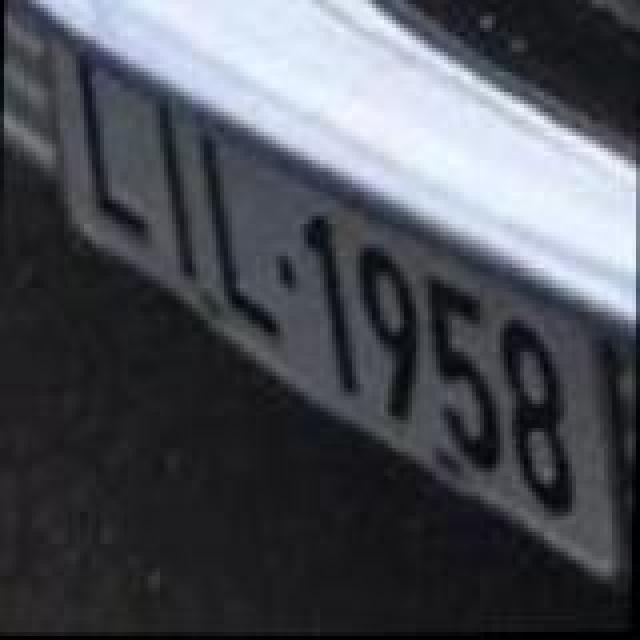1: (298, 216, 362, 400), (148, 92, 204, 284)
5: (424, 270, 512, 474)
8: (498, 312, 582, 516)
9: (352, 246, 428, 430)
L: (190, 130, 290, 342), (70, 48, 158, 244)
